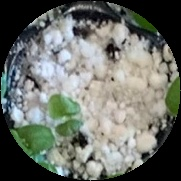Basil: (9, 122, 51, 160), (43, 96, 80, 128)
